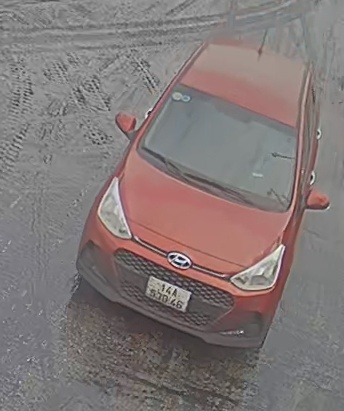vehicle plate: (144, 267, 190, 319)
